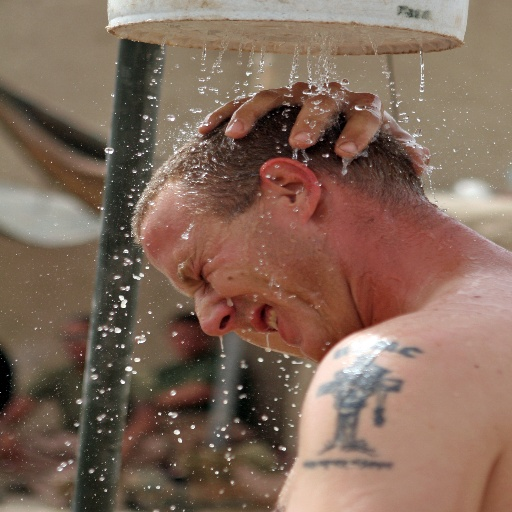hand: (191, 81, 432, 159)
